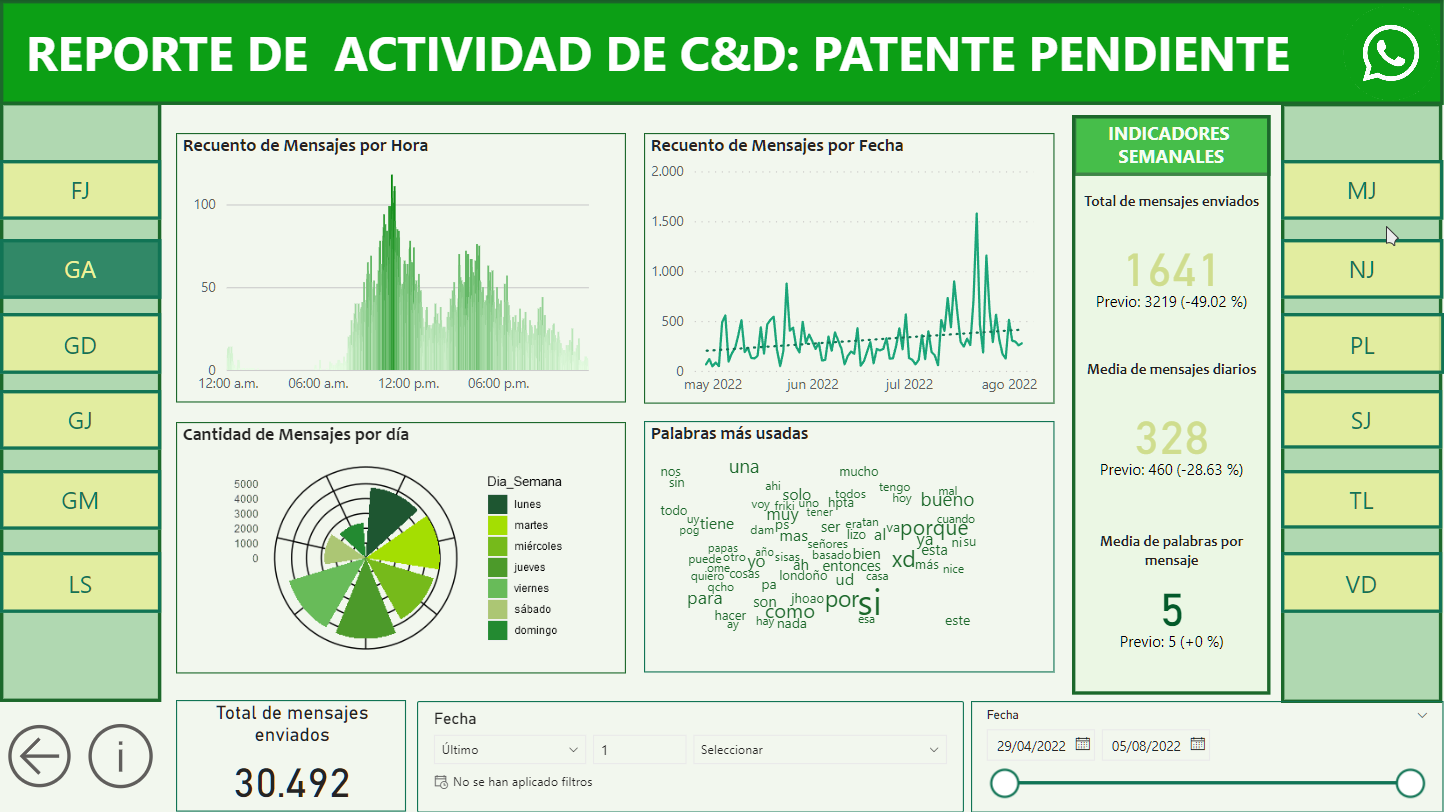

The page's visual inventory and layout, read from the dashboard file:
{"tool":"powerbi","page":{"name":"GA","canvas":[1280,720],"ordinal":2},"visuals":[{"type":"shape","box":[0,112.6,199.5,523.2],"z":0},{"type":"shape","box":[0,0,1280,118.7],"z":1000},{"type":"image","box":[1167.2,5.8,112.8,106],"z":2000},{"type":"textbox","box":[0,24.3,1167.2,69.1],"z":3000},{"type":"shape","box":[1080,112.6,199.5,523.2],"z":4000},{"type":"slicer","fields":{"Values":["whatsapp_chat mychats.Fecha"]},"box":[419.6,636.2,440.7,84.3],"z":5000},{"type":"columnChart","title":"Recuento de Mensajes por Hora","fields":{"Category":["whatsapp_chat mychats.Hora"],"Y":["CountNonNull(whatsapp_chat mychats.Indice)"]},"box":[640.2,118.8,439.8,275.8],"z":6000},{"type":"donutChart","title":"Proporción de Sentimiento por Mensajes","fields":{"Category":["whatsapp_chat mychats.Sentimiento"],"Y":["CountNonNull(whatsapp_chat mychats.Indice)"]},"box":[199.5,394.6,440.7,241.2],"z":7000},{"type":"lineChart","title":"Recuento de Mensajes por Fecha","fields":{"Y":["CountNonNull(whatsapp_chat mychats.Indice)"],"Category":["whatsapp_chat mychats.Fecha"]},"box":[200.4,118.8,439.8,275.8],"z":8000},{"type":"actionButton","box":[0,518.7,199.5,53.2],"z":9000},{"type":"actionButton","box":[0,445.1,199.5,53.2],"z":10000},{"type":"actionButton","box":[0,374.2,199.5,53.2],"z":11000},{"type":"actionButton","box":[0,306.8,199.5,53.2],"z":12000},{"type":"actionButton","box":[0,239.4,199.5,53.2],"z":13000},{"type":"actionButton","box":[0,169.4,199.5,53.2],"z":14000},{"type":"actionButton","box":[1080.4,518.7,199.5,53.2],"z":15000},{"type":"actionButton","box":[1080.4,445.1,199.5,53.2],"z":16000},{"type":"actionButton","box":[1080.4,374.2,199.5,53.2],"z":17000},{"type":"actionButton","box":[1080.4,306.8,199.5,53.2],"z":18000},{"type":"actionButton","box":[1080.4,239.4,199.5,53.2],"z":19000},{"type":"actionButton","box":[1080.4,169.4,199.5,53.2],"z":20000},{"type":"WordCloud1447959067750","title":"Palabras más usadas","fields":{"Category":["whatsapp_chat mychats.Mensaje"],"Values":["CountNonNull(whatsapp_chat mychats.Indice)"]},"box":[640,394.7,315.2,241.4],"z":21000},{"type":"actionButton","box":[113.1,636.2,86.2,83.4],"z":22000},{"type":"card","title":"Total de mensajes enviados","fields":{"Values":["CountNonNull(whatsapp_chat mychats.Indice)"]},"box":[199.5,635.8,220.8,84.2],"z":23000},{"type":"actionButton","box":[0,638.1,75.7,80.5],"z":24000},{"type":"slicer","fields":{"Values":["whatsapp_chat mychats.Fecha"]},"box":[860.4,636.2,418.7,84.3],"z":25000},{"type":"card","title":"Media de Palabras por Mensaje","fields":{"Values":["Tabla_Medidas.Media_Palabras_Por_Mensaje"]},"box":[955,394.6,125.9,120.6],"z":25001},{"type":"card","title":"Total de Palabras enviadas","fields":{"Values":["Sum(whatsapp_chat mychats.Cantidad_Palabras)"]},"box":[953.2,515.2,125.9,120.6],"z":25002}]}

Visuals, with their boxes in screenshot pixels (x1, y1, x2, y2), scaled from the page's 1280x720 canvas onto the 1444x812 screenshot:
shape: box(0, 127, 225, 717)
shape: box(0, 0, 1443, 134)
image: box(1317, 7, 1443, 126)
textbox: box(0, 27, 1317, 105)
shape: box(1218, 127, 1443, 717)
slicer - whatsapp_chat mychats.Fecha: box(473, 717, 971, 811)
"Recuento de Mensajes por Hora" columnChart: box(722, 134, 1218, 445)
"Proporción de Sentimiento por Mensajes" donutChart: box(225, 445, 722, 717)
"Recuento de Mensajes por Fecha" lineChart: box(226, 134, 722, 445)
actionButton: box(0, 585, 225, 645)
actionButton: box(0, 502, 225, 562)
actionButton: box(0, 422, 225, 482)
actionButton: box(0, 346, 225, 406)
actionButton: box(0, 270, 225, 330)
actionButton: box(0, 191, 225, 251)
actionButton: box(1219, 585, 1443, 645)
actionButton: box(1219, 502, 1443, 562)
actionButton: box(1219, 422, 1443, 482)
actionButton: box(1219, 346, 1443, 406)
actionButton: box(1219, 270, 1443, 330)
actionButton: box(1219, 191, 1443, 251)
"Palabras más usadas" WordCloud1447959067750: box(722, 445, 1078, 717)
actionButton: box(128, 717, 225, 811)
"Total de mensajes enviados" card: box(225, 717, 474, 811)
actionButton: box(0, 720, 85, 810)
slicer - whatsapp_chat mychats.Fecha: box(971, 717, 1443, 811)
"Media de Palabras por Mensaje" card: box(1077, 445, 1219, 581)
"Total de Palabras enviadas" card: box(1075, 581, 1217, 717)
